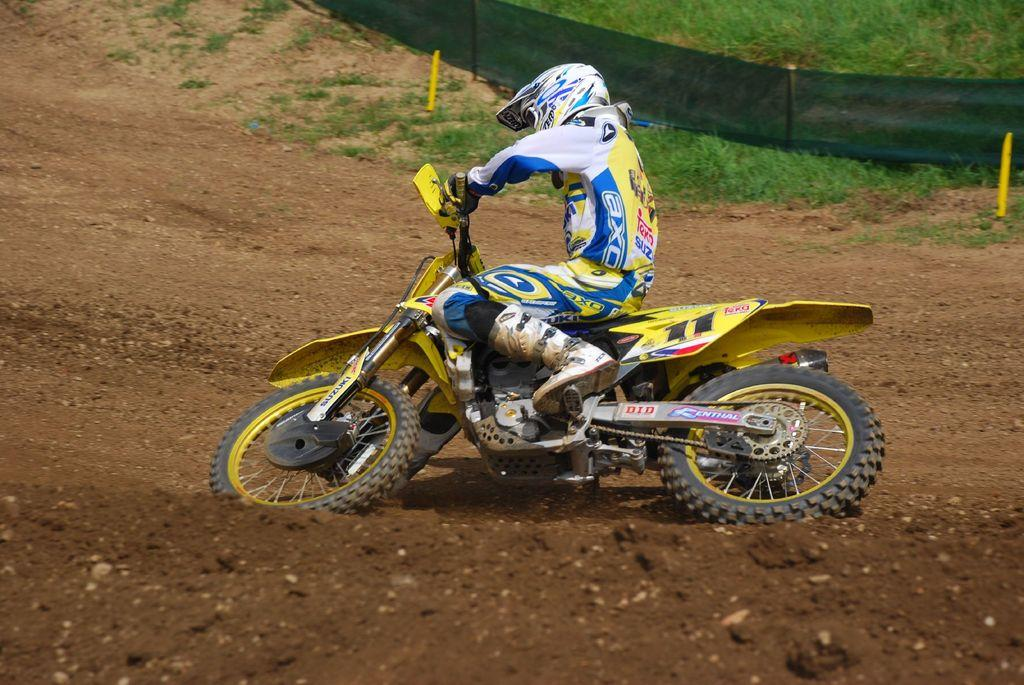helmet: (496, 63, 611, 154)
